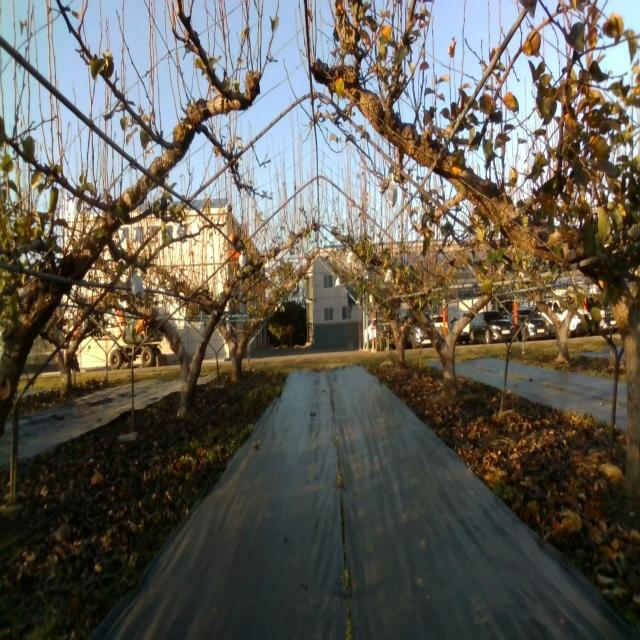pearbags: (387, 174, 398, 211), (132, 273, 146, 300)
